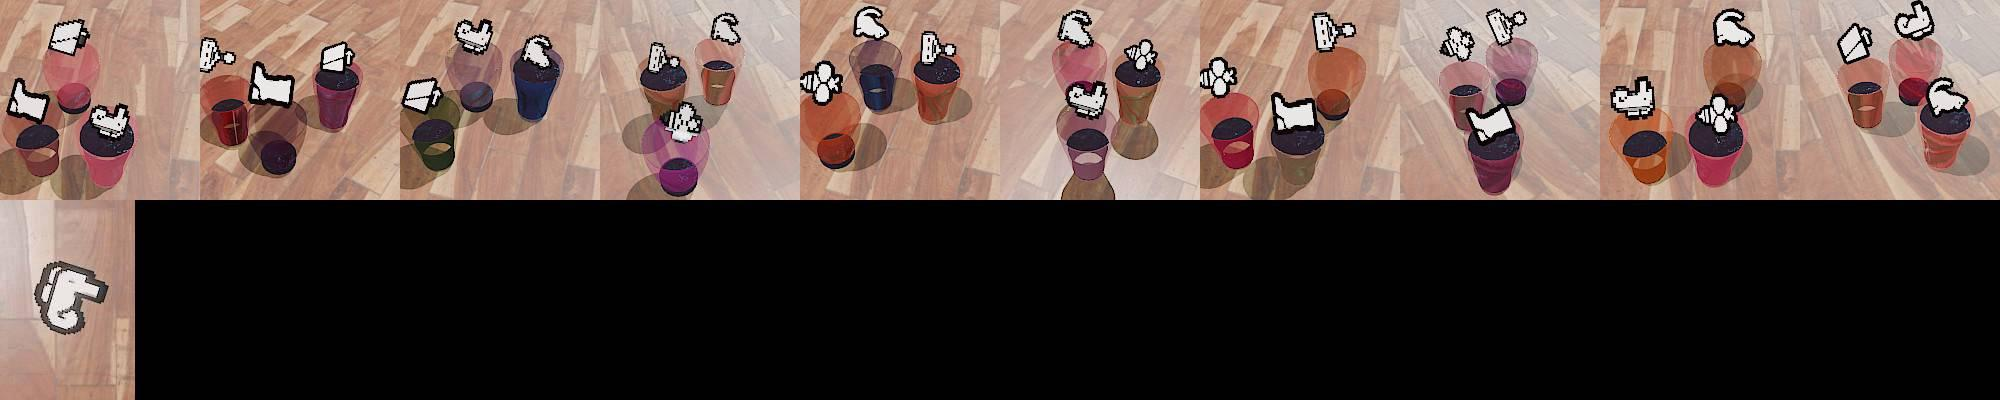icon: (34, 260, 110, 336), (1464, 98, 1516, 146), (799, 59, 845, 105), (1609, 73, 1655, 119), (249, 60, 295, 105), (6, 77, 51, 123), (1311, 10, 1357, 52), (1270, 90, 1318, 130), (661, 99, 704, 141), (1893, 0, 1935, 42), (1486, 7, 1528, 49), (1925, 77, 1968, 118), (1066, 79, 1110, 119), (1712, 8, 1755, 48), (48, 18, 91, 56), (1698, 93, 1738, 133), (89, 102, 132, 139), (1837, 21, 1874, 63), (1199, 56, 1237, 96), (454, 17, 493, 55), (1057, 8, 1094, 48), (918, 31, 958, 68), (402, 76, 442, 113), (199, 37, 237, 74), (852, 5, 890, 41), (1439, 26, 1476, 62), (1123, 38, 1158, 75), (319, 41, 355, 75), (520, 35, 556, 68), (709, 11, 740, 45), (646, 41, 670, 74)
